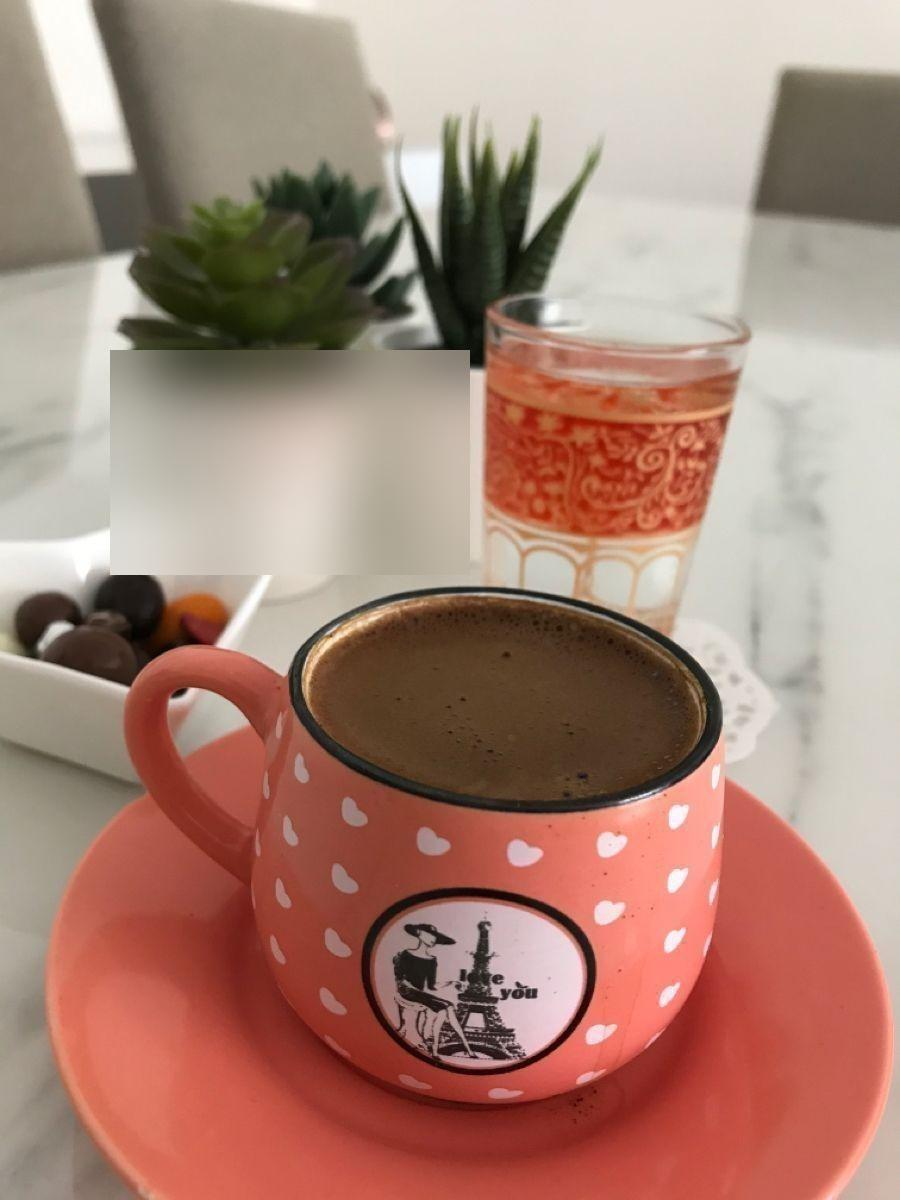cup-handle: (119, 581, 731, 1107)
glass-normal: (458, 267, 735, 571)
